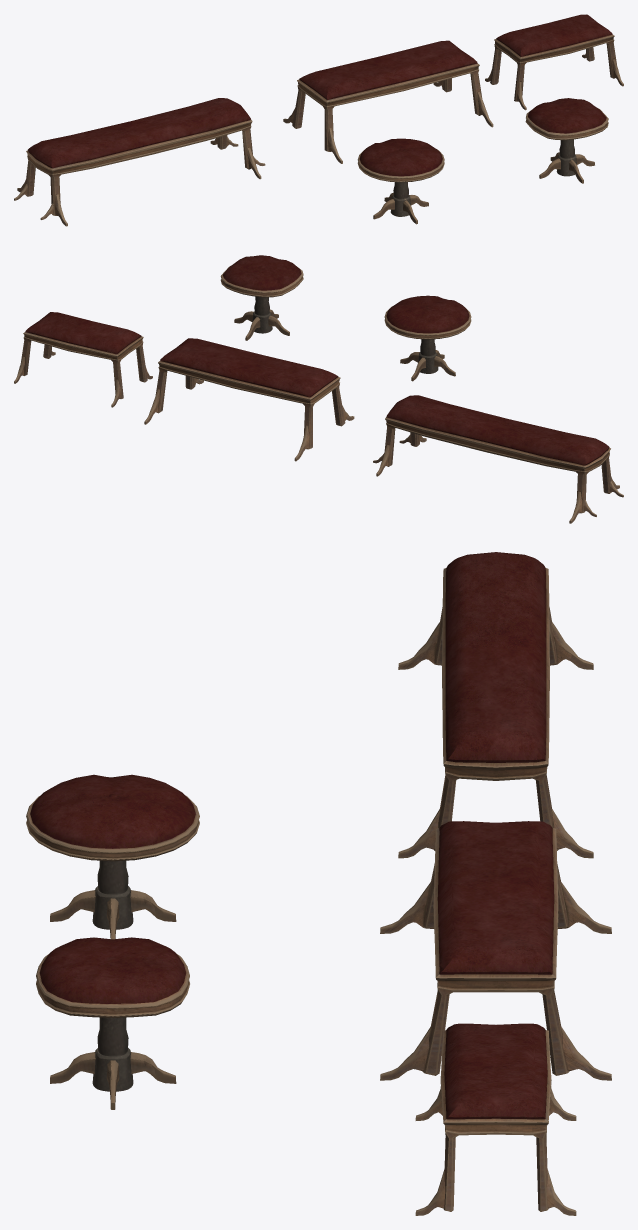
The model's file is Furniture_C.fbx.
3 views of the same model, one above another, from view 1: azimuth 30°, elevation 25°; view 2: azimuth 150°, elevation 25°; view 3: azimuth 270°, elevation 25° (orthographic). The views are drawn at different scales.
Parts seen in each view (by area): view 1: Bench_1A3, Bench_1A2.001, Bench_1A3.001, Bench_1A2, Stool_1A1, Stool_1A2, Bench_1A1.001, Bench_1A1, Stool_1A1.001, Stool_1A2.001; view 2: Bench_1A3, Bench_1A2.001, Bench_1A3.001, Bench_1A2, Stool_1A1, Stool_1A2, Bench_1A1.001, Bench_1A1, Stool_1A1.001, Stool_1A2.001; view 3: Bench_1A3, Bench_1A2.001, Stool_1A1, Bench_1A2, Stool_1A2, Bench_1A3.001, Bench_1A1.001, Bench_1A1, Stool_1A1.001, Stool_1A2.001.
Boxes of the visible parts, x1,y1,x2,y2 form: Bench_1A3: (14, 98, 265, 226); Bench_1A2.001: (287, 40, 493, 163); Bench_1A3.001: (17, 98, 262, 225); Bench_1A2: (283, 40, 492, 163); Stool_1A1: (357, 138, 444, 224); Stool_1A2: (526, 98, 608, 183); Bench_1A1.001: (486, 15, 623, 109); Bench_1A1: (485, 14, 623, 110); Stool_1A1.001: (359, 139, 443, 223); Stool_1A2.001: (525, 98, 608, 183); Bench_1A3: (373, 395, 623, 523); Bench_1A2.001: (144, 338, 349, 460); Bench_1A3.001: (374, 395, 620, 523); Bench_1A2: (144, 338, 354, 461); Stool_1A1: (384, 295, 471, 381); Stool_1A2: (220, 255, 303, 340); Bench_1A1.001: (14, 312, 149, 407); Bench_1A1: (14, 312, 152, 407); Stool_1A1.001: (385, 295, 469, 380); Stool_1A2.001: (221, 255, 303, 340); Bench_1A3: (398, 552, 593, 858); Bench_1A2.001: (383, 821, 611, 1080); Stool_1A1: (26, 774, 199, 939); Bench_1A2: (380, 821, 611, 1080); Stool_1A2: (36, 937, 189, 1109); Bench_1A3.001: (398, 552, 593, 858); Bench_1A1.001: (415, 1024, 574, 1215); Bench_1A1: (415, 1023, 576, 1215); Stool_1A1.001: (26, 774, 199, 938); Stool_1A2.001: (36, 937, 189, 1109).
Bounding box in the file's own units: 697 × 75.39 × 306.
